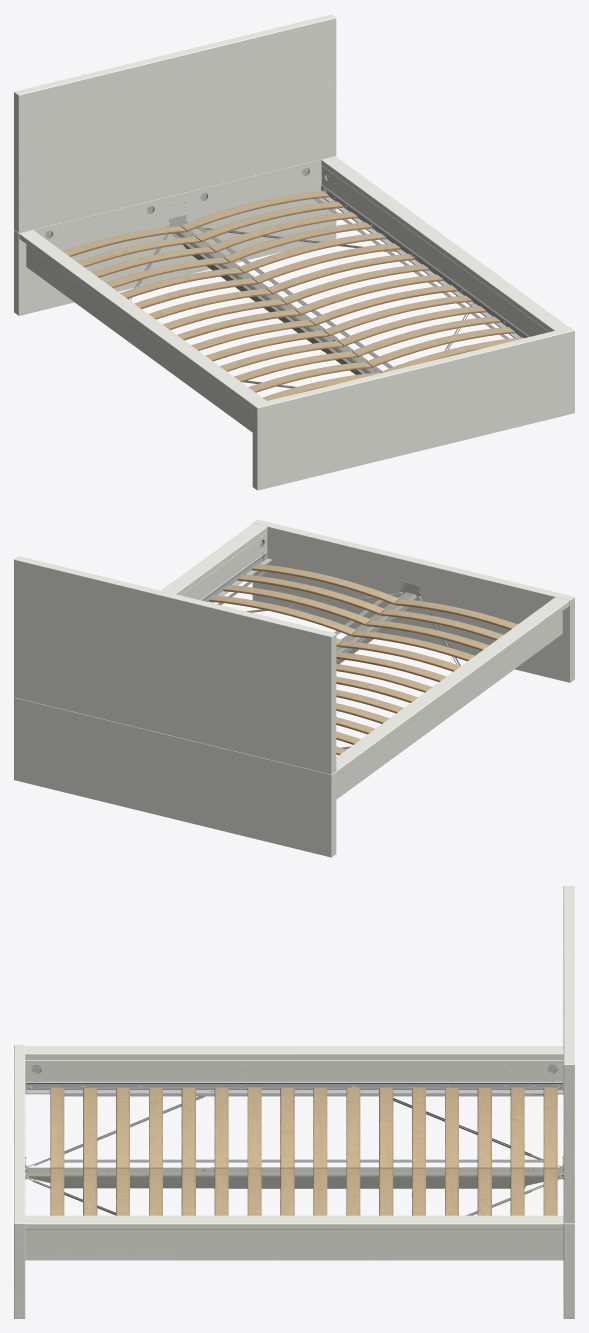
3 renders of one model, top to bottom at view 1: azimuth 30°, elevation 25°; view 2: azimuth 150°, elevation 25°; view 3: azimuth 270°, elevation 25°, orthographic. The views are drawn at different scales.
Parts seen in each view (by area): view 1: world; view 2: world; view 3: world.
Part boxes in pixels (x1,y1,x2,y2): world: [14, 14, 574, 490]; world: [14, 519, 574, 857]; world: [14, 886, 574, 1318].
Size of the model in its own units: 1.5 by 1 by 1.99.
Materials: 1 (1 with a texture image).
